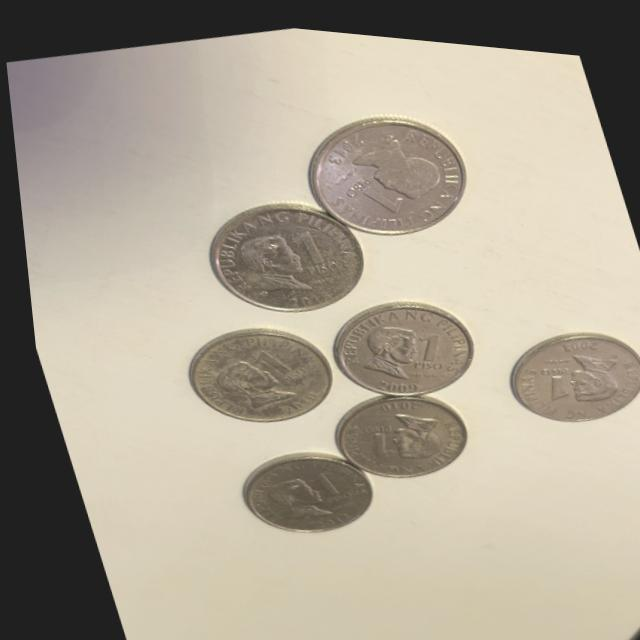1_Old_Front: (326, 154, 404, 218), (234, 328, 304, 384), (281, 213, 340, 277), (520, 348, 575, 397), (294, 453, 343, 503), (349, 410, 396, 456), (399, 317, 439, 369)
